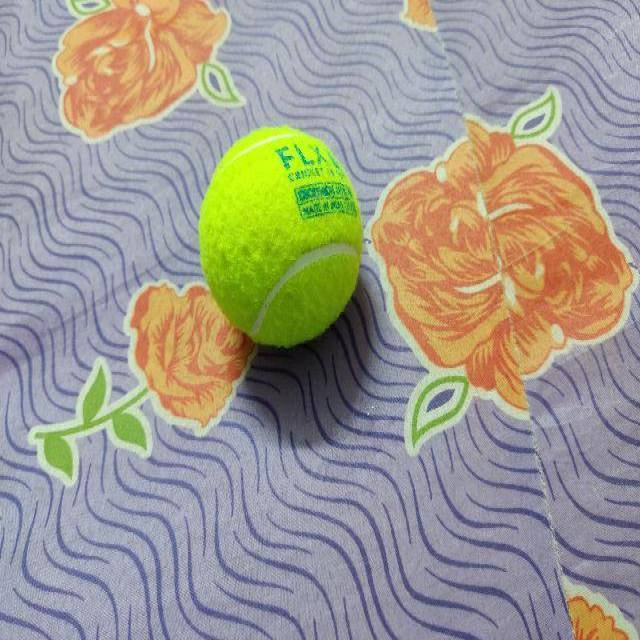tennis-ball: (199, 125, 364, 347)
